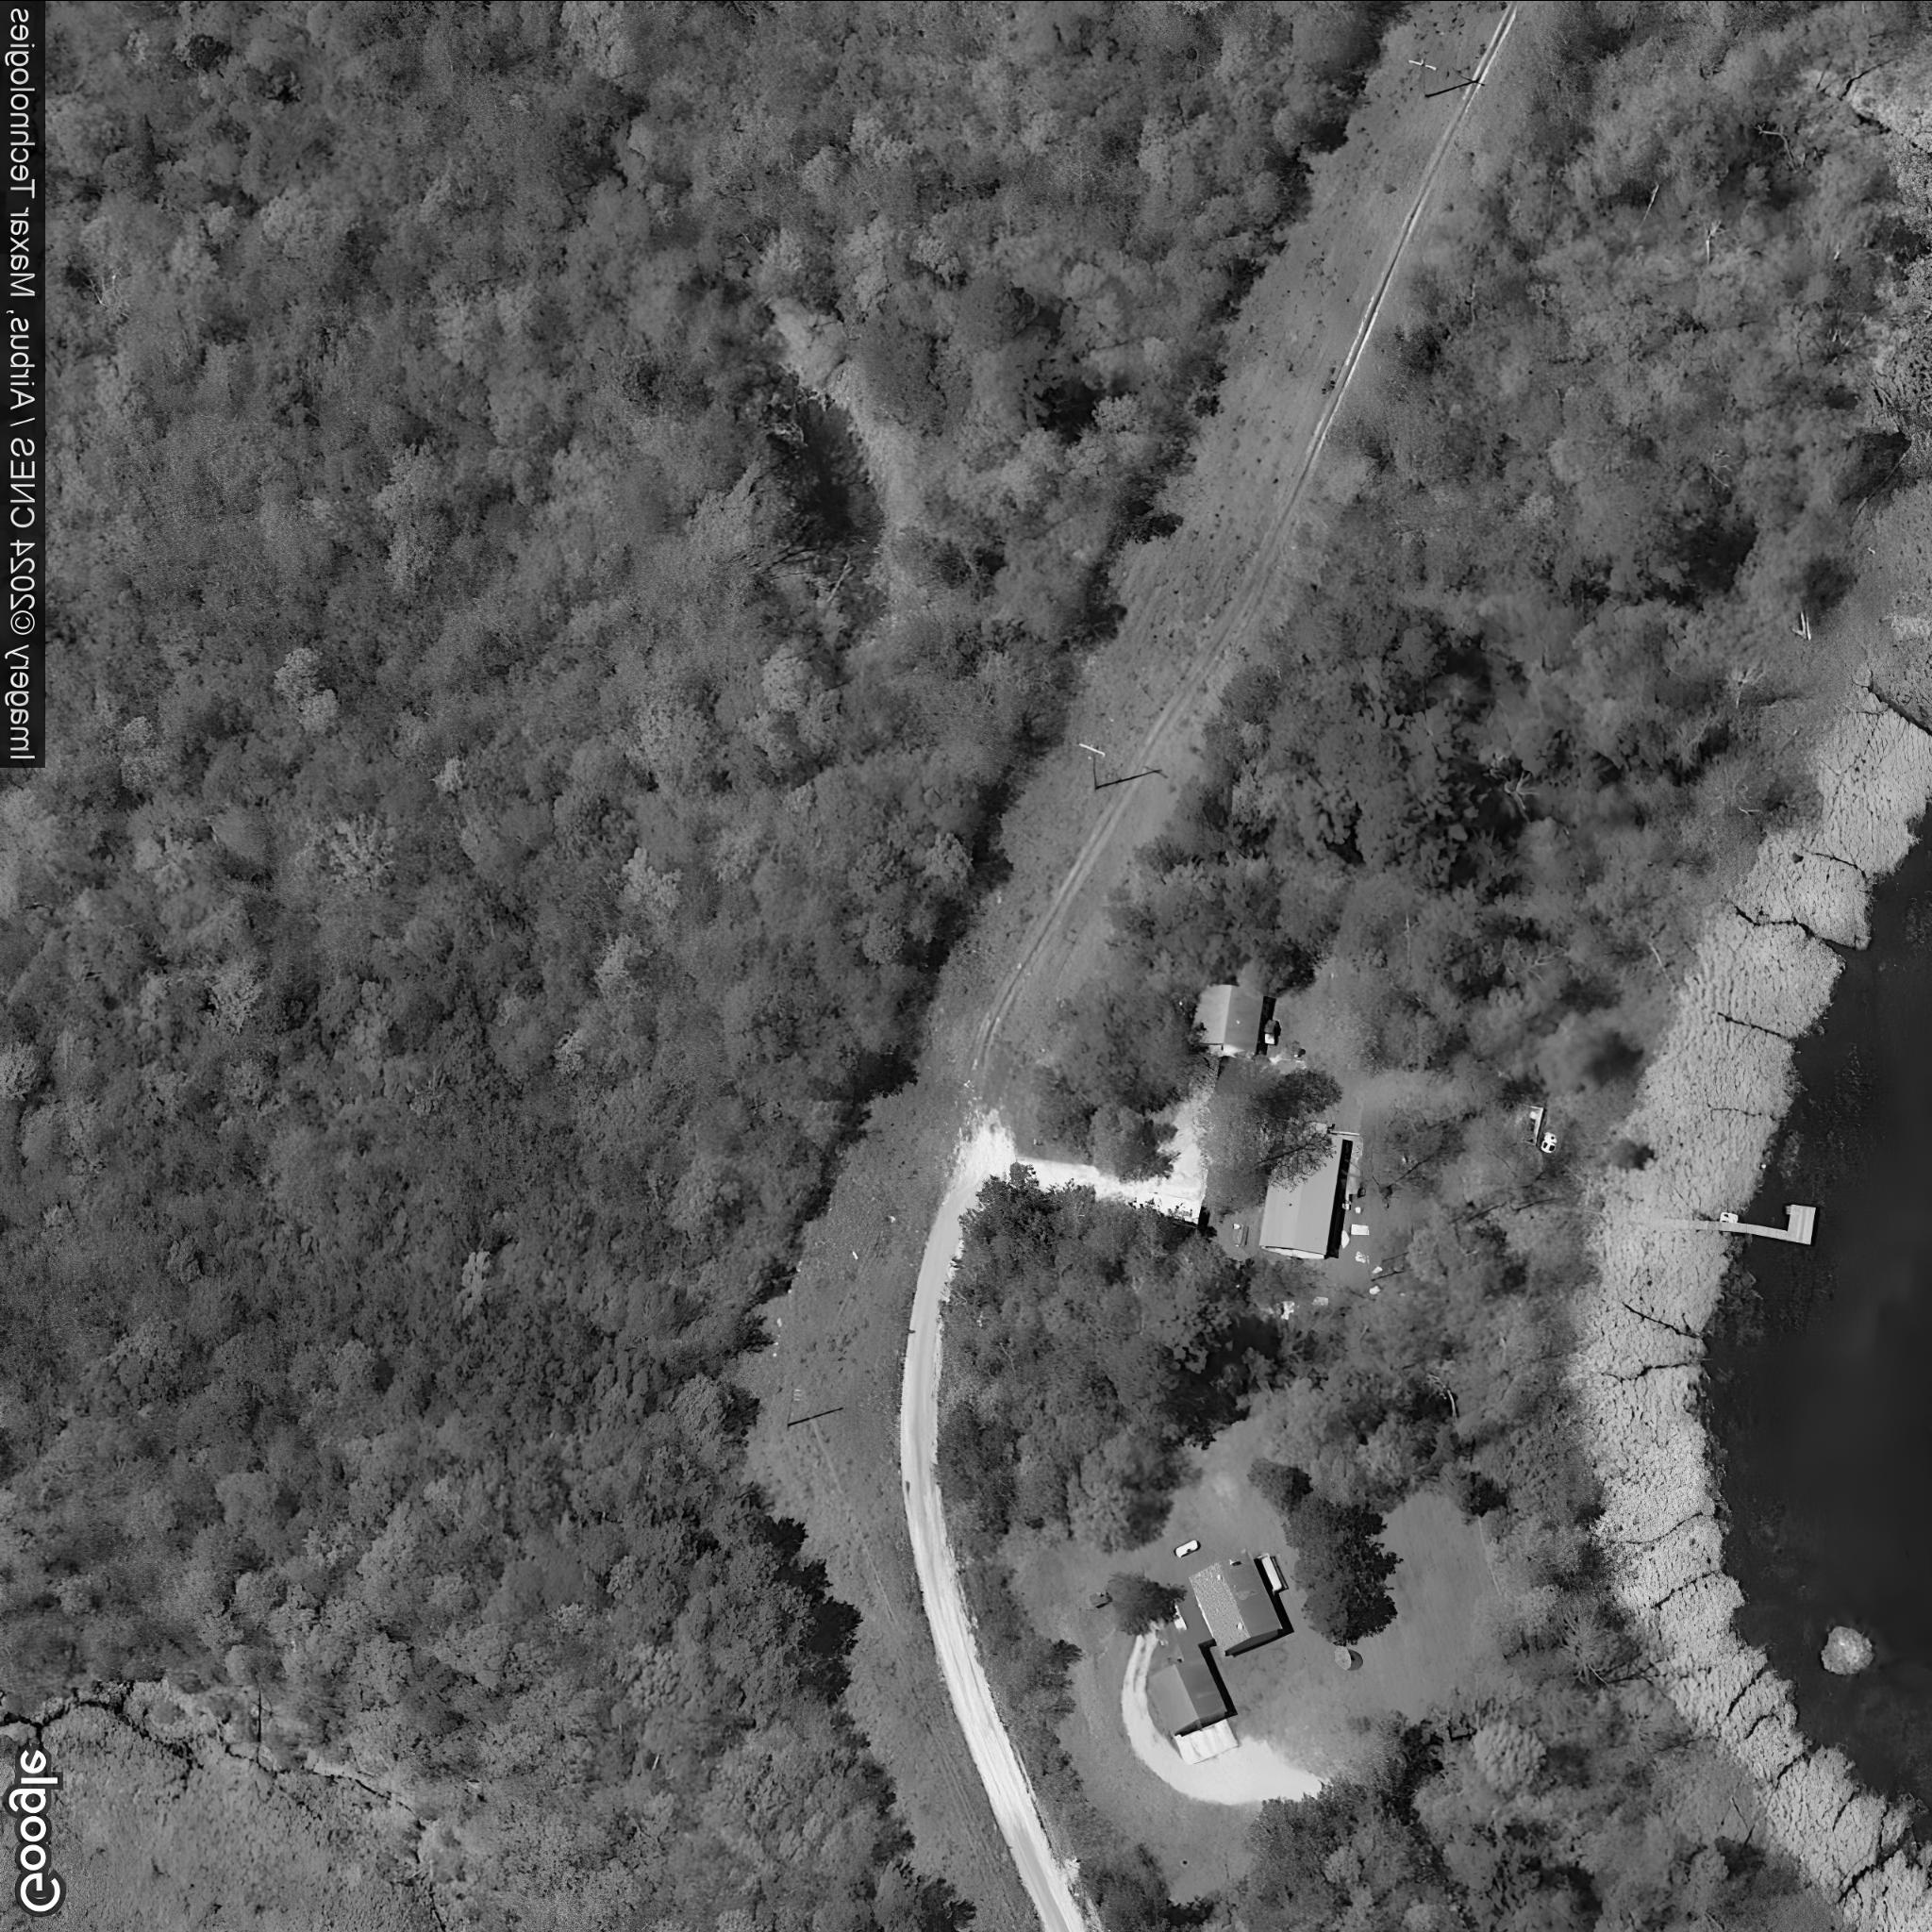Garage: (1145, 1654, 1230, 1737), (1189, 982, 1267, 1063)
House: (1254, 1122, 1345, 1261), (1185, 1555, 1283, 1658)
Propane: (1171, 1534, 1203, 1562)
